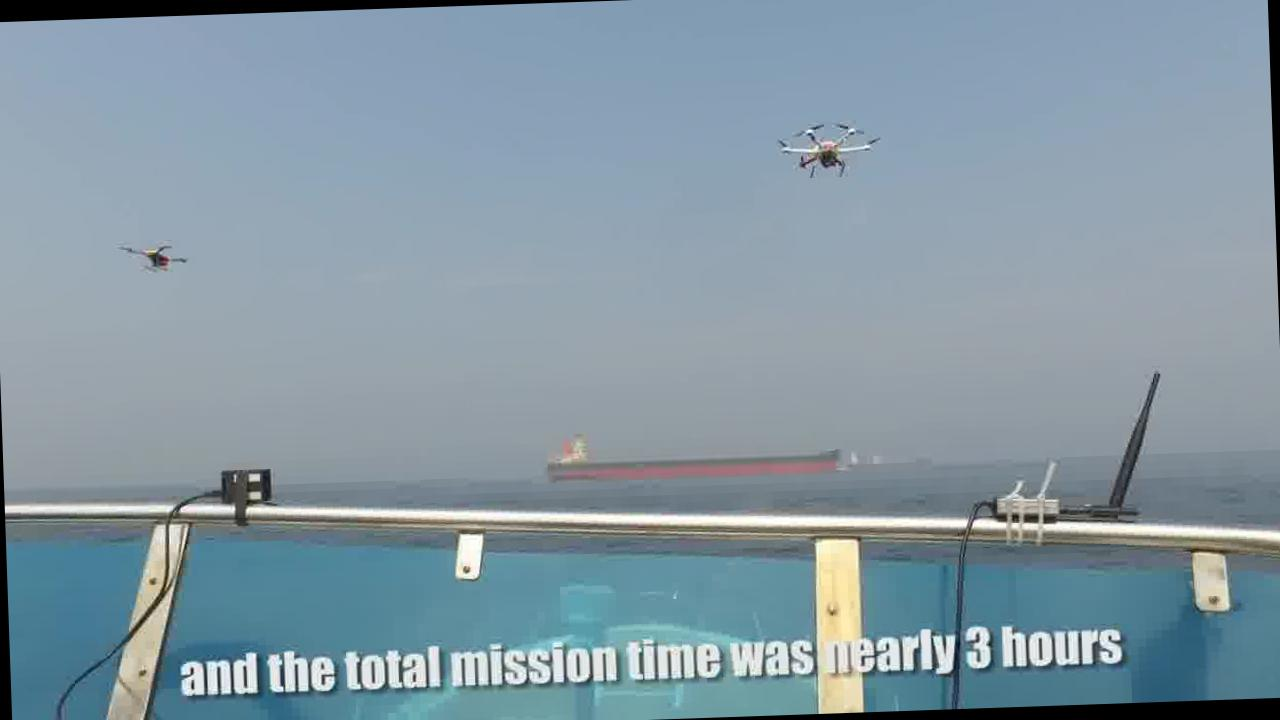drone: (768, 114, 882, 180), (115, 232, 191, 280)
